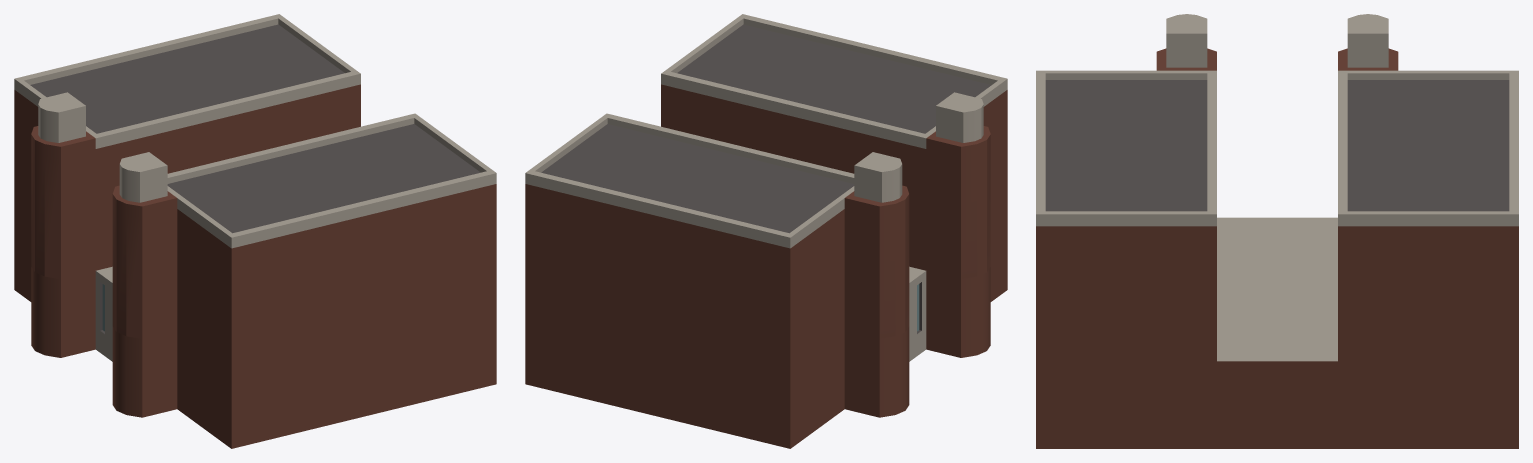
File: Split_Top.fbx
3 renders of one model, left to right at view 1: azimuth 30°, elevation 25°; view 2: azimuth 150°, elevation 25°; view 3: azimuth 270°, elevation 25°, orthographic. The views are drawn at different scales.
Visible parts, largest first — view 1: Split_Building_Top; view 2: Split_Building_Top; view 3: Split_Building_Top.
Part boxes in pixels (x1,y1,x2,y2): Split_Building_Top: [14, 14, 496, 448]; Split_Building_Top: [525, 14, 1007, 448]; Split_Building_Top: [1036, 14, 1518, 448].
Bounding box in the file's own units: 2074 × 1535 × 2500.
